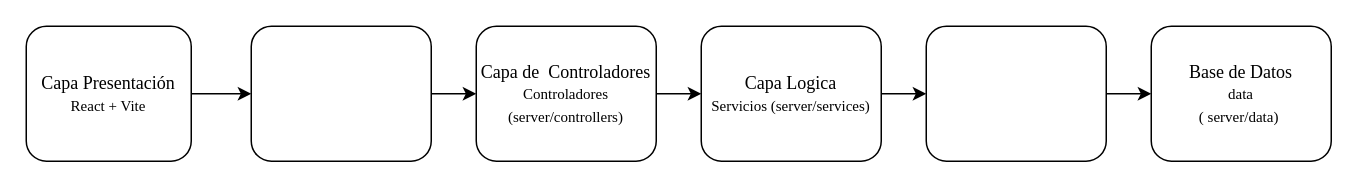
Image size: 1358x188. Some labels were removed from this diagram. Here are the shapes that lost their labels. From the top down, the centre of each, then its label:
At point 340,93: "Capa Enrutamiento Api (server/routes)".
At point 1015,93: "Capa de acceso a Datos repositorio (server/repositories)".
